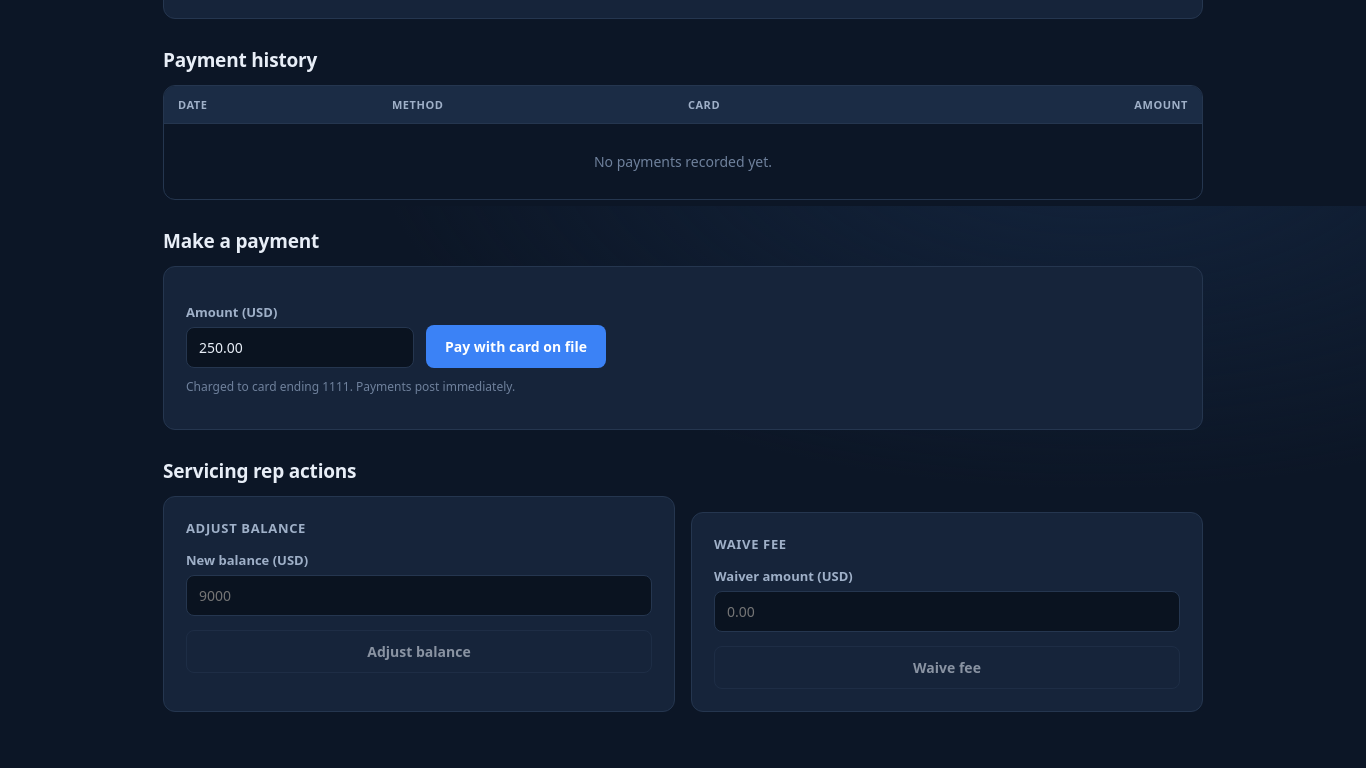
loan detail — adjust-balance compare-and-set (D32) › quotes the balance on screen and refuses to silently resubmit on a 409
(page scrolled)
Type "500.00" into the number field with placeholder "9000". click: [419, 595]
box: x1=186 y1=574 x2=652 y2=616
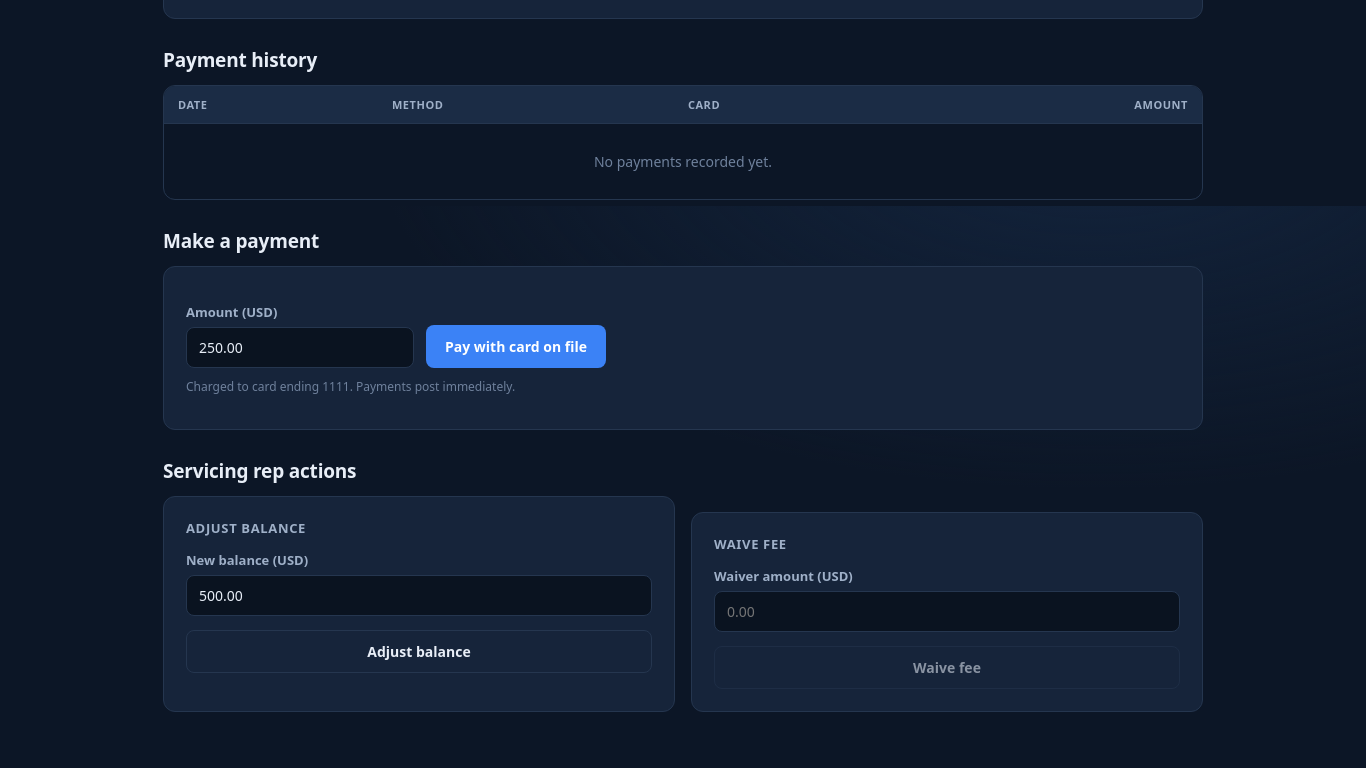
Click the button "Adjust balance". click: [419, 651]
box: x1=186 y1=630 x2=652 y2=672
(page scrolled)
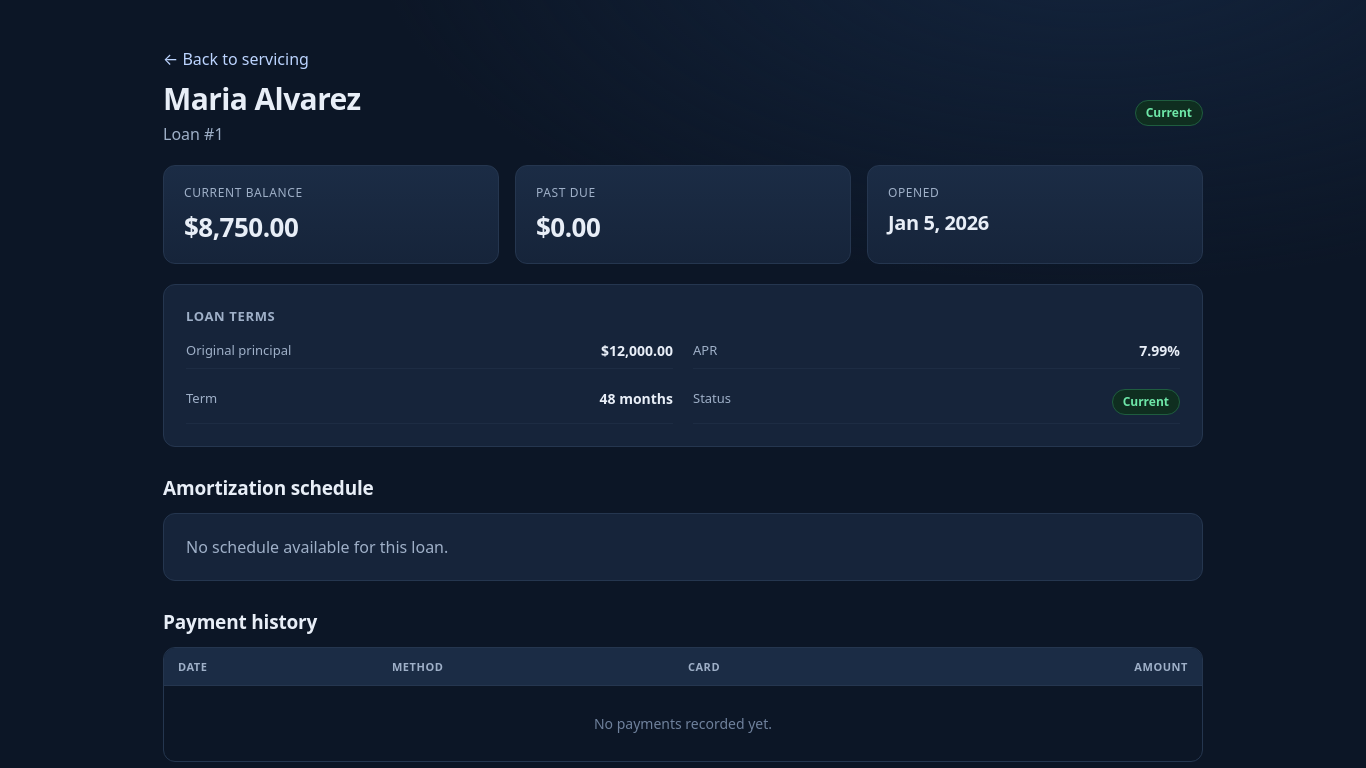
Expected: the text "$8,750.00" is shown, x1=184 y1=208 x2=298 y2=244
